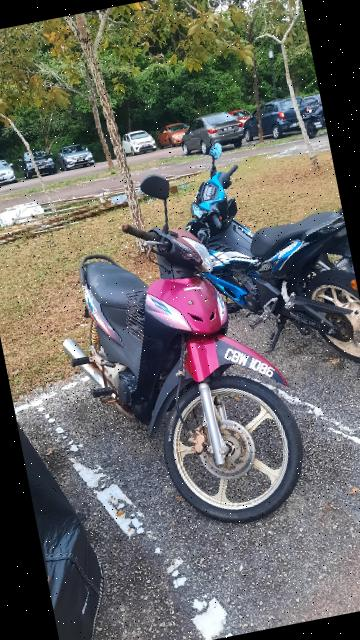License_Plate: (215, 327, 295, 410)
motorcycle: (31, 154, 332, 553), (173, 125, 360, 393)
